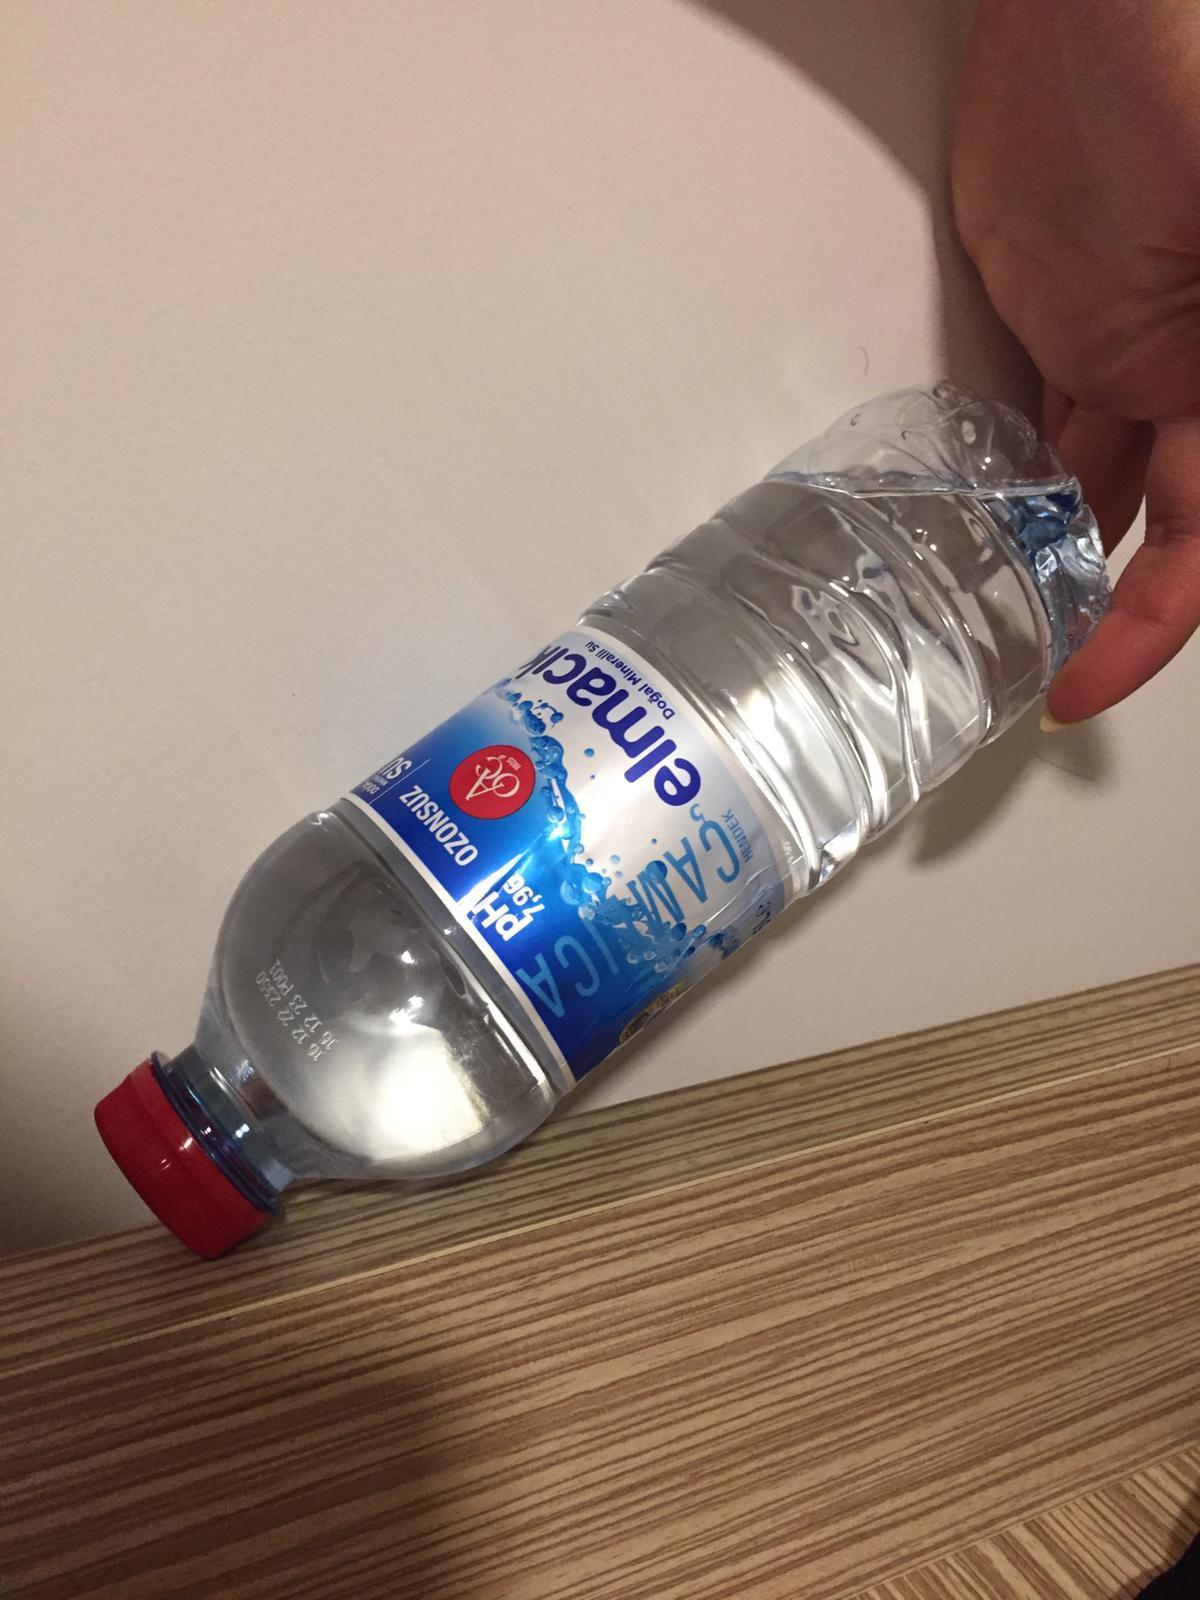bottle: (98, 378, 1114, 1262)
